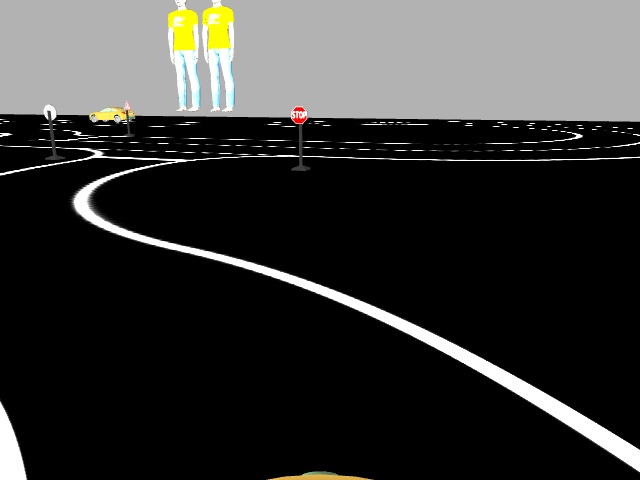Stop: (290, 105, 309, 124)
